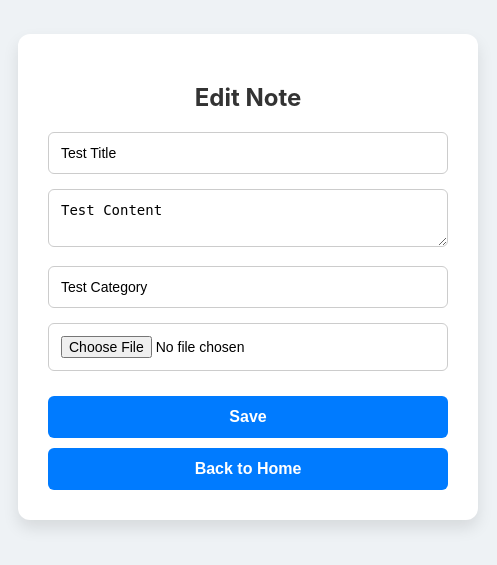
Scenario: EditNote Component › handles form submission failure
Expected: the 1st field with placeholder "Title" holds "Test Title", [48,132,448,174]
Note: Click on the "Save" button without changing the data
Click the button "Save". click: (248, 418)
box: [48,396,448,438]
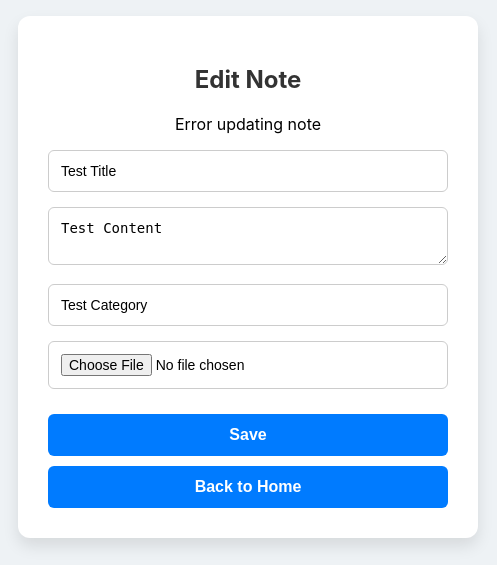
Now the text "Error updating note" is shown, box [175,114,321,134]
